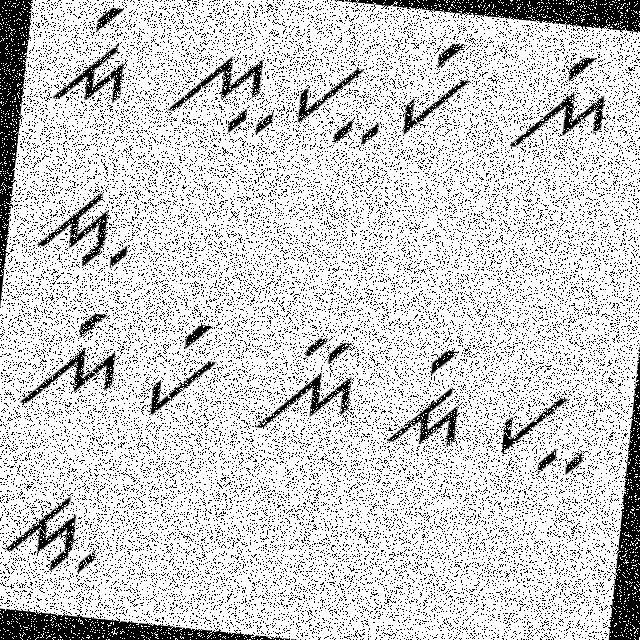dah: (27, 162, 140, 272), (0, 478, 102, 580)
dang: (380, 339, 470, 468), (49, 0, 144, 117)
nah: (243, 317, 364, 443), (150, 34, 284, 146)
nang: (8, 294, 126, 416), (506, 46, 622, 161)
pah: (492, 375, 596, 481), (292, 52, 394, 150)
pang: (140, 306, 227, 426), (400, 34, 484, 158)
